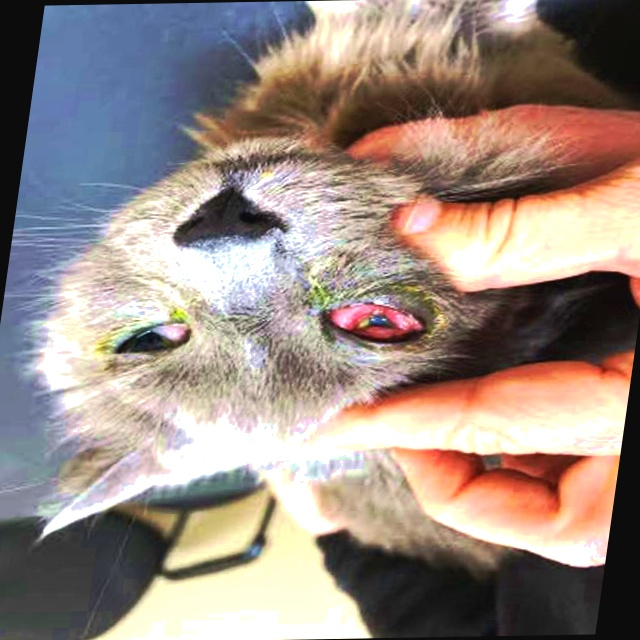eye_infection: (309, 287, 433, 352), (99, 320, 192, 358)
